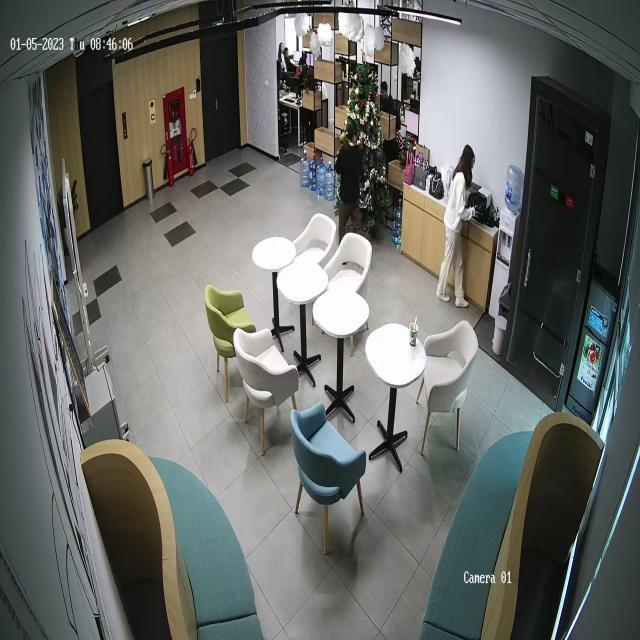person: (435, 144, 477, 308), (334, 128, 364, 243), (277, 38, 297, 76), (380, 81, 398, 119)
